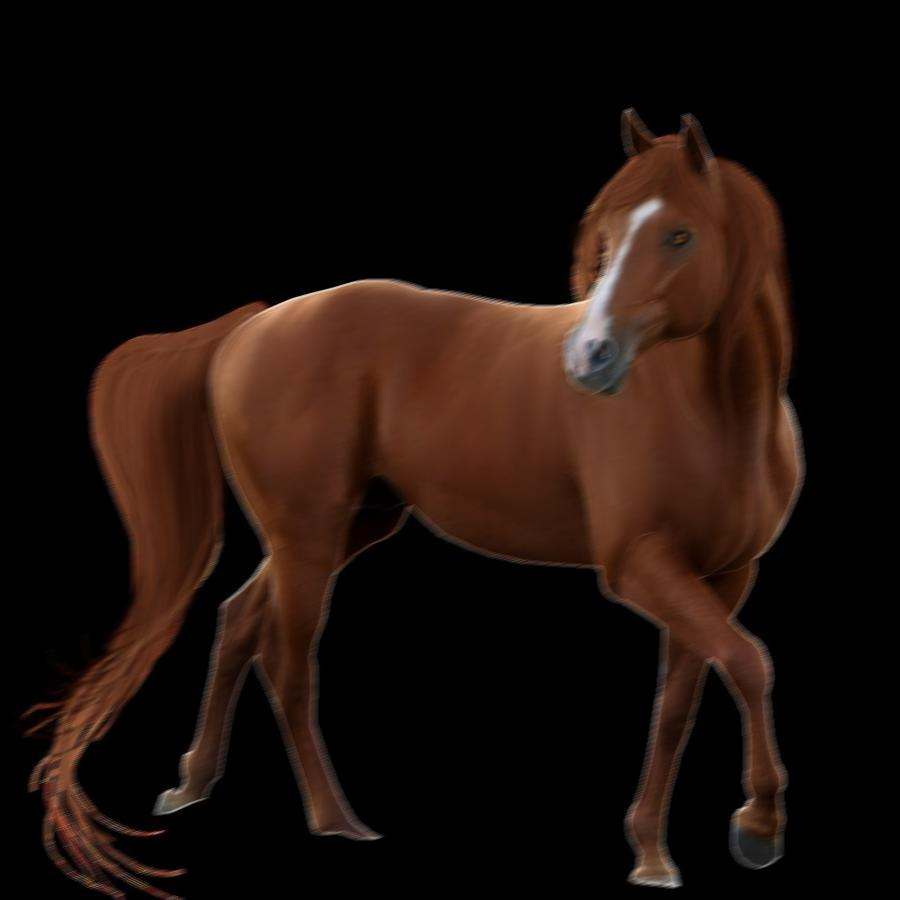horse: (0, 100, 824, 900)
